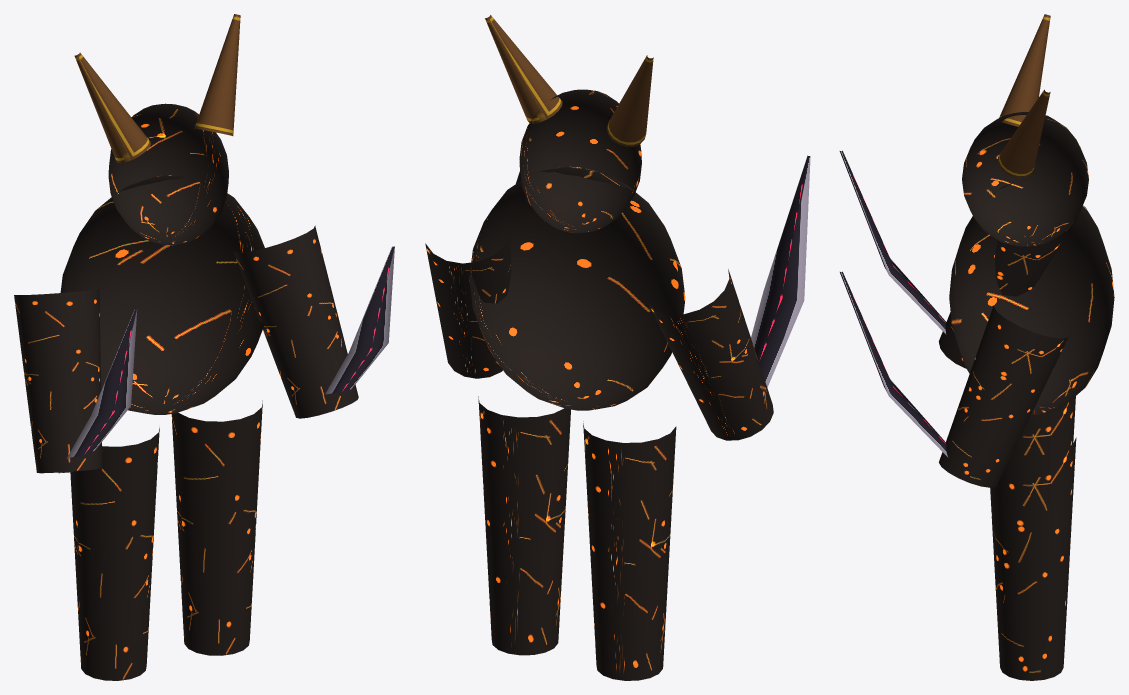
Rendered from agni_berserker.glb.
The picture shows the model from 3 angles, left to right: view 1: azimuth 30°, elevation 25°; view 2: azimuth 150°, elevation 25°; view 3: azimuth 270°, elevation 25°; orthographic projection. The views are drawn at different scales.
Parts seen in each view (by area): view 1: Node_AgniBerserker; view 2: Node_AgniBerserker; view 3: Node_AgniBerserker.
Boxes of the visible parts, <box> form: Node_AgniBerserker: <box>14,14,394,680</box>; Node_AgniBerserker: <box>425,15,810,680</box>; Node_AgniBerserker: <box>839,14,1114,680</box>.
Size of the model in its own units: 1.1 by 2.05 by 0.865.
Materials: 3 (3 with a texture image).
